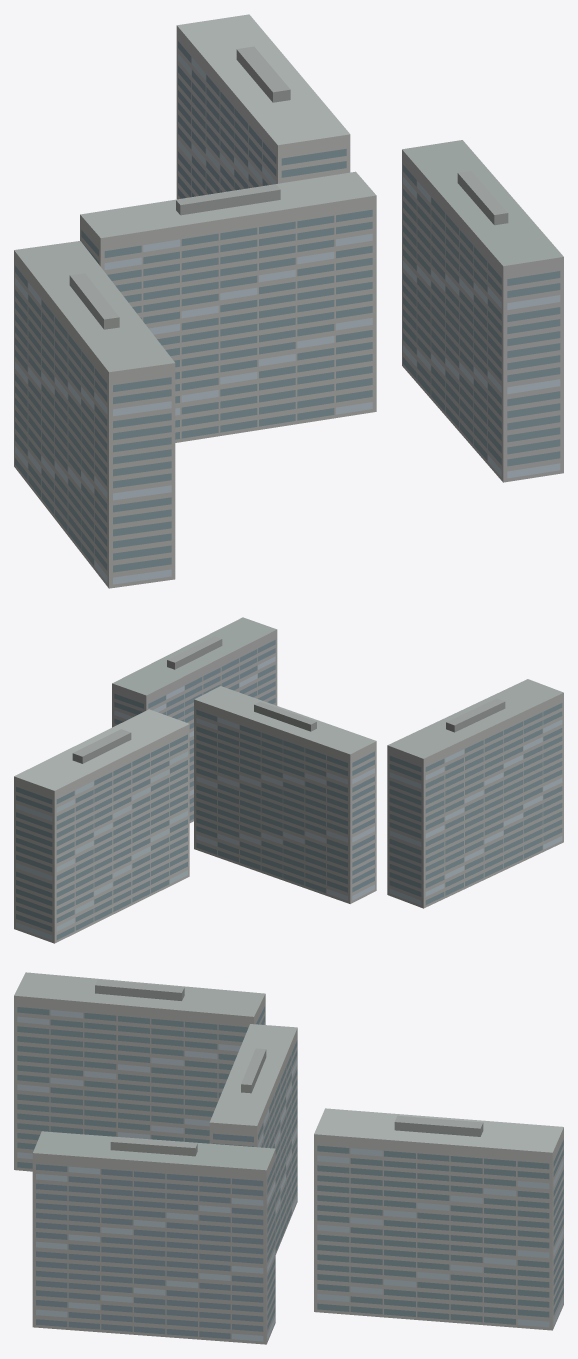
The model's file is apt-a13003404.glb.
The picture shows the model from 3 angles, top to bottom: view 1: azimuth 30°, elevation 25°; view 2: azimuth 150°, elevation 25°; view 3: azimuth 270°, elevation 25°; orthographic projection. The views are drawn at different scales.
Parts seen in each view (by area): view 1: apt-a13003404; view 2: apt-a13003404; view 3: apt-a13003404.
Boxes of the visible parts, x1=… form: apt-a13003404: x1=14, y1=14, x2=563, y2=588; apt-a13003404: x1=14, y1=617, x2=563, y2=943; apt-a13003404: x1=14, y1=972, x2=563, y2=1344.
Bounding box in the file's own units: 116 × 51 × 137.
